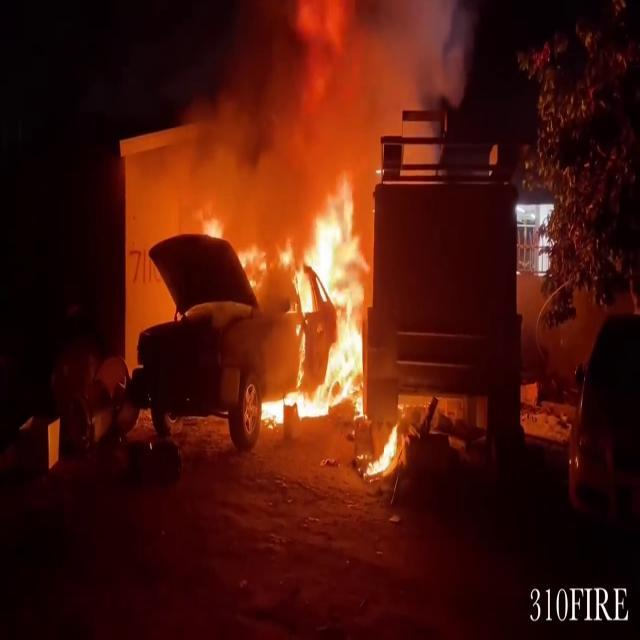Fire: (246, 184, 374, 428), (367, 414, 403, 482)
Smoke: (152, 0, 470, 206)
